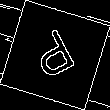P_SE: (27, 24, 83, 86)
